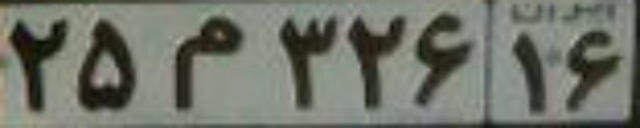1: (511, 31, 549, 111)
2: (344, 11, 404, 110), (7, 18, 70, 111)
3: (278, 13, 338, 110)
5: (73, 20, 141, 110)
6: (411, 11, 473, 109), (559, 30, 625, 110)
mim: (165, 14, 246, 112)
